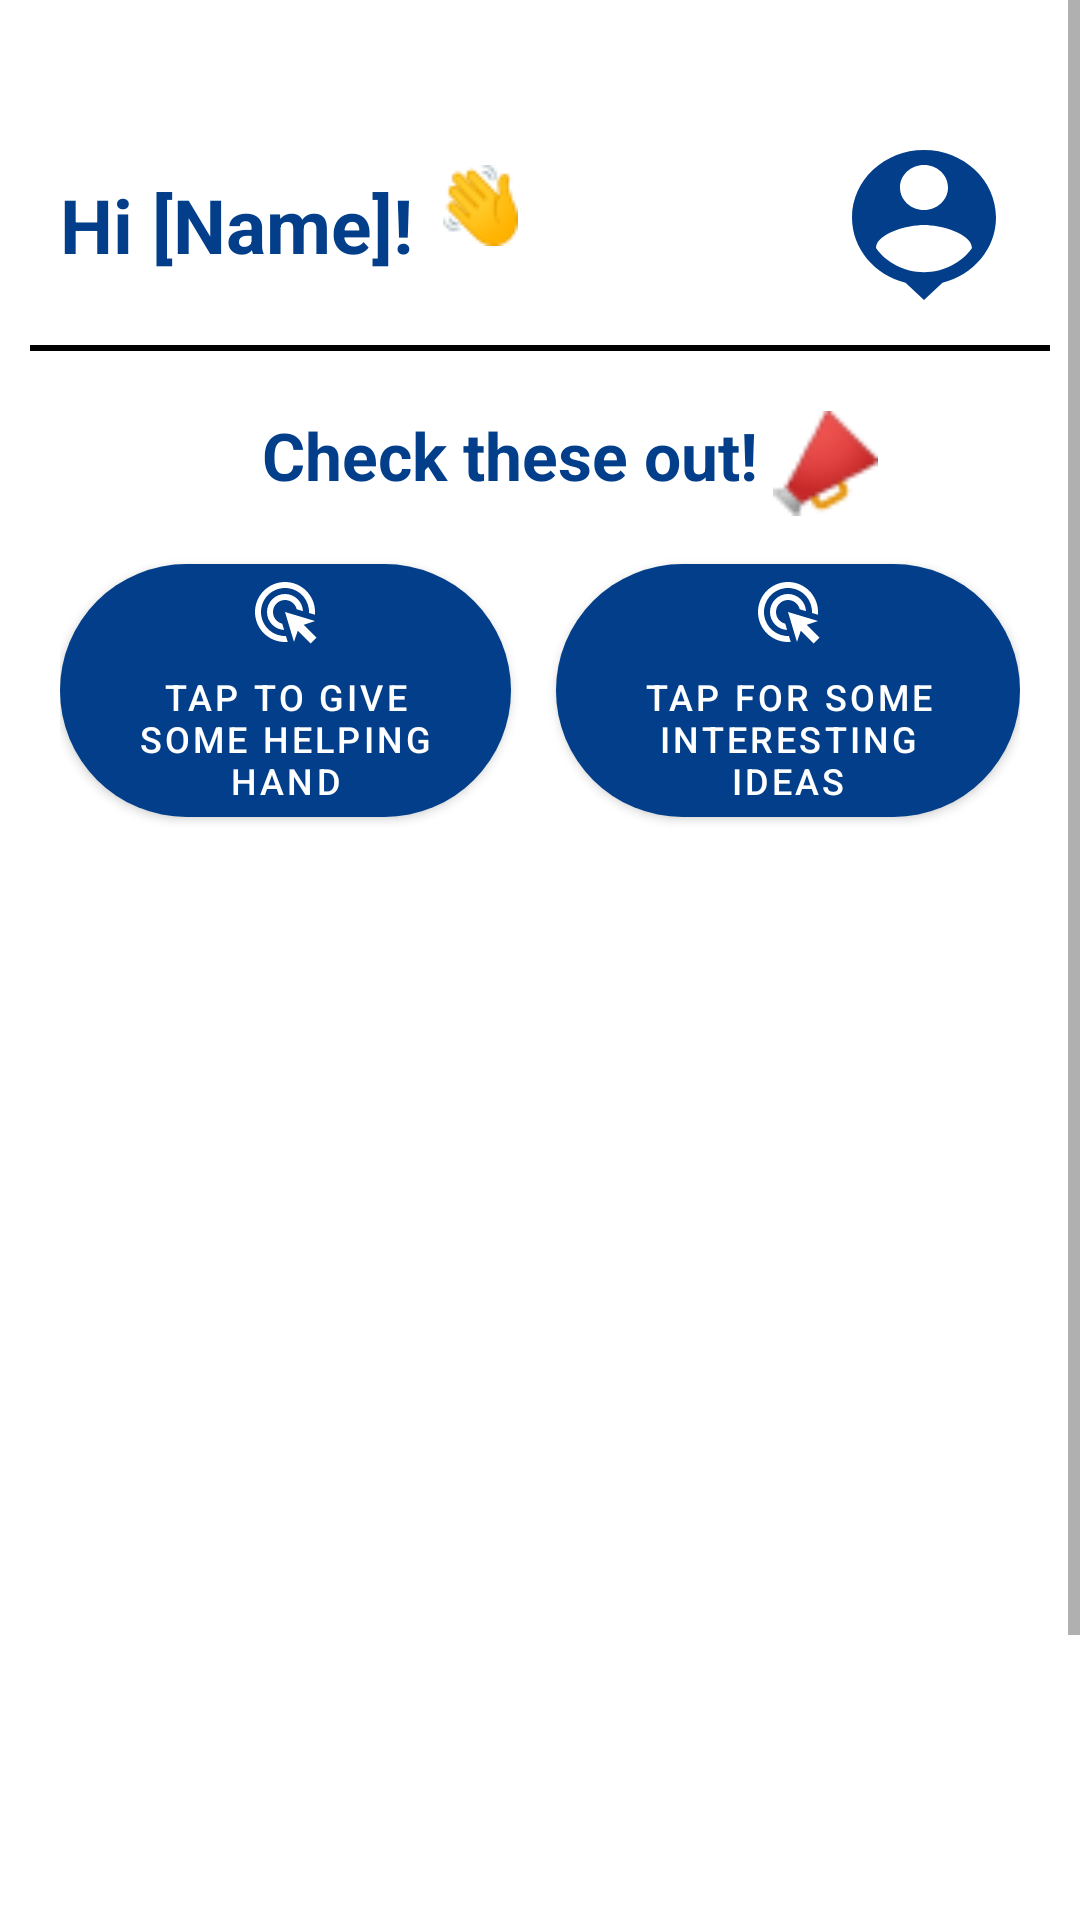

Named icons in this screenshot (1080*1920) and their bounding boxes, [x1=x1, y1=y1, x2=x2, y2=y2]:
user: [x1=852, y1=150, x2=996, y2=300]
wave: [x1=443, y1=165, x2=518, y2=246]
